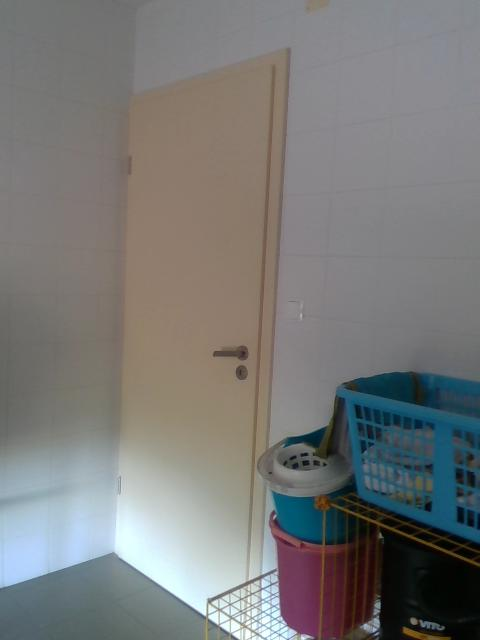door: (117, 58, 275, 640)
